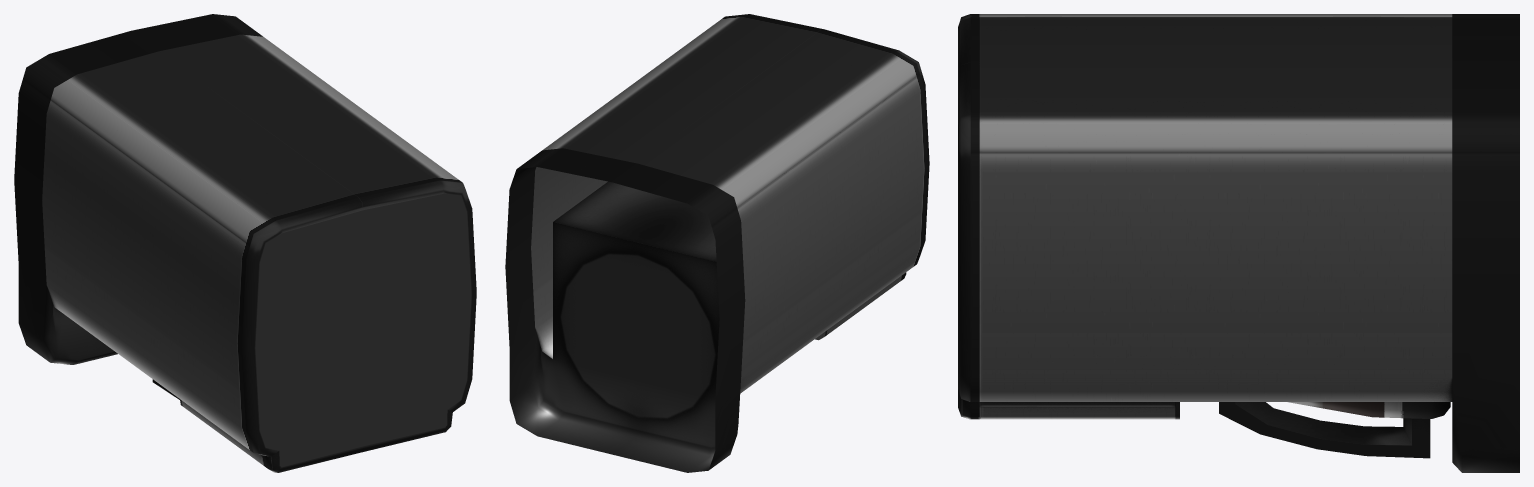
The model's file is coffee_maker.dae.
3 views of the same model, side by side, from view 1: azimuth 30°, elevation 25°; view 2: azimuth 150°, elevation 25°; view 3: azimuth 270°, elevation 25° (orthographic). The views are drawn at different scales.
Parts seen in each view (by area): view 1: coffee_maker; view 2: coffee_maker; view 3: coffee_maker.
Boxes of the visible parts, x1,y1,x2,y2 form: coffee_maker: (14, 14, 476, 472); coffee_maker: (505, 14, 929, 472); coffee_maker: (958, 14, 1519, 472).
Size of the model in its own units: 20.59 by 35.5 by 27.54.
1 material, 1 textured.
